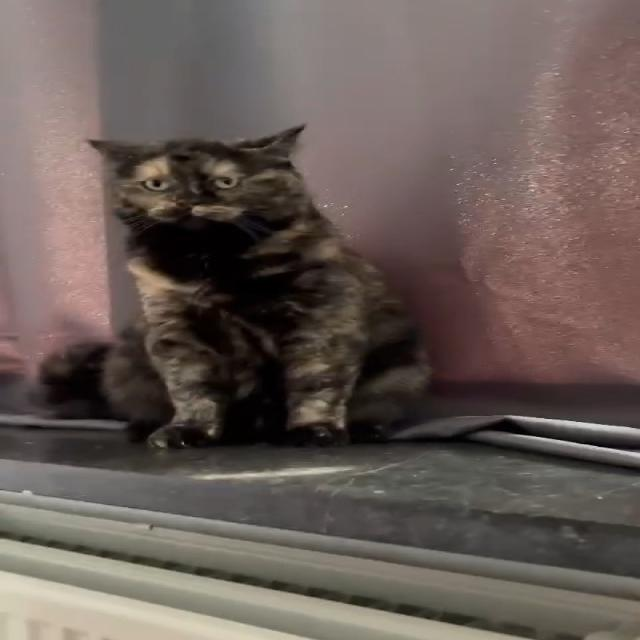authorized: (80, 122, 435, 449)
